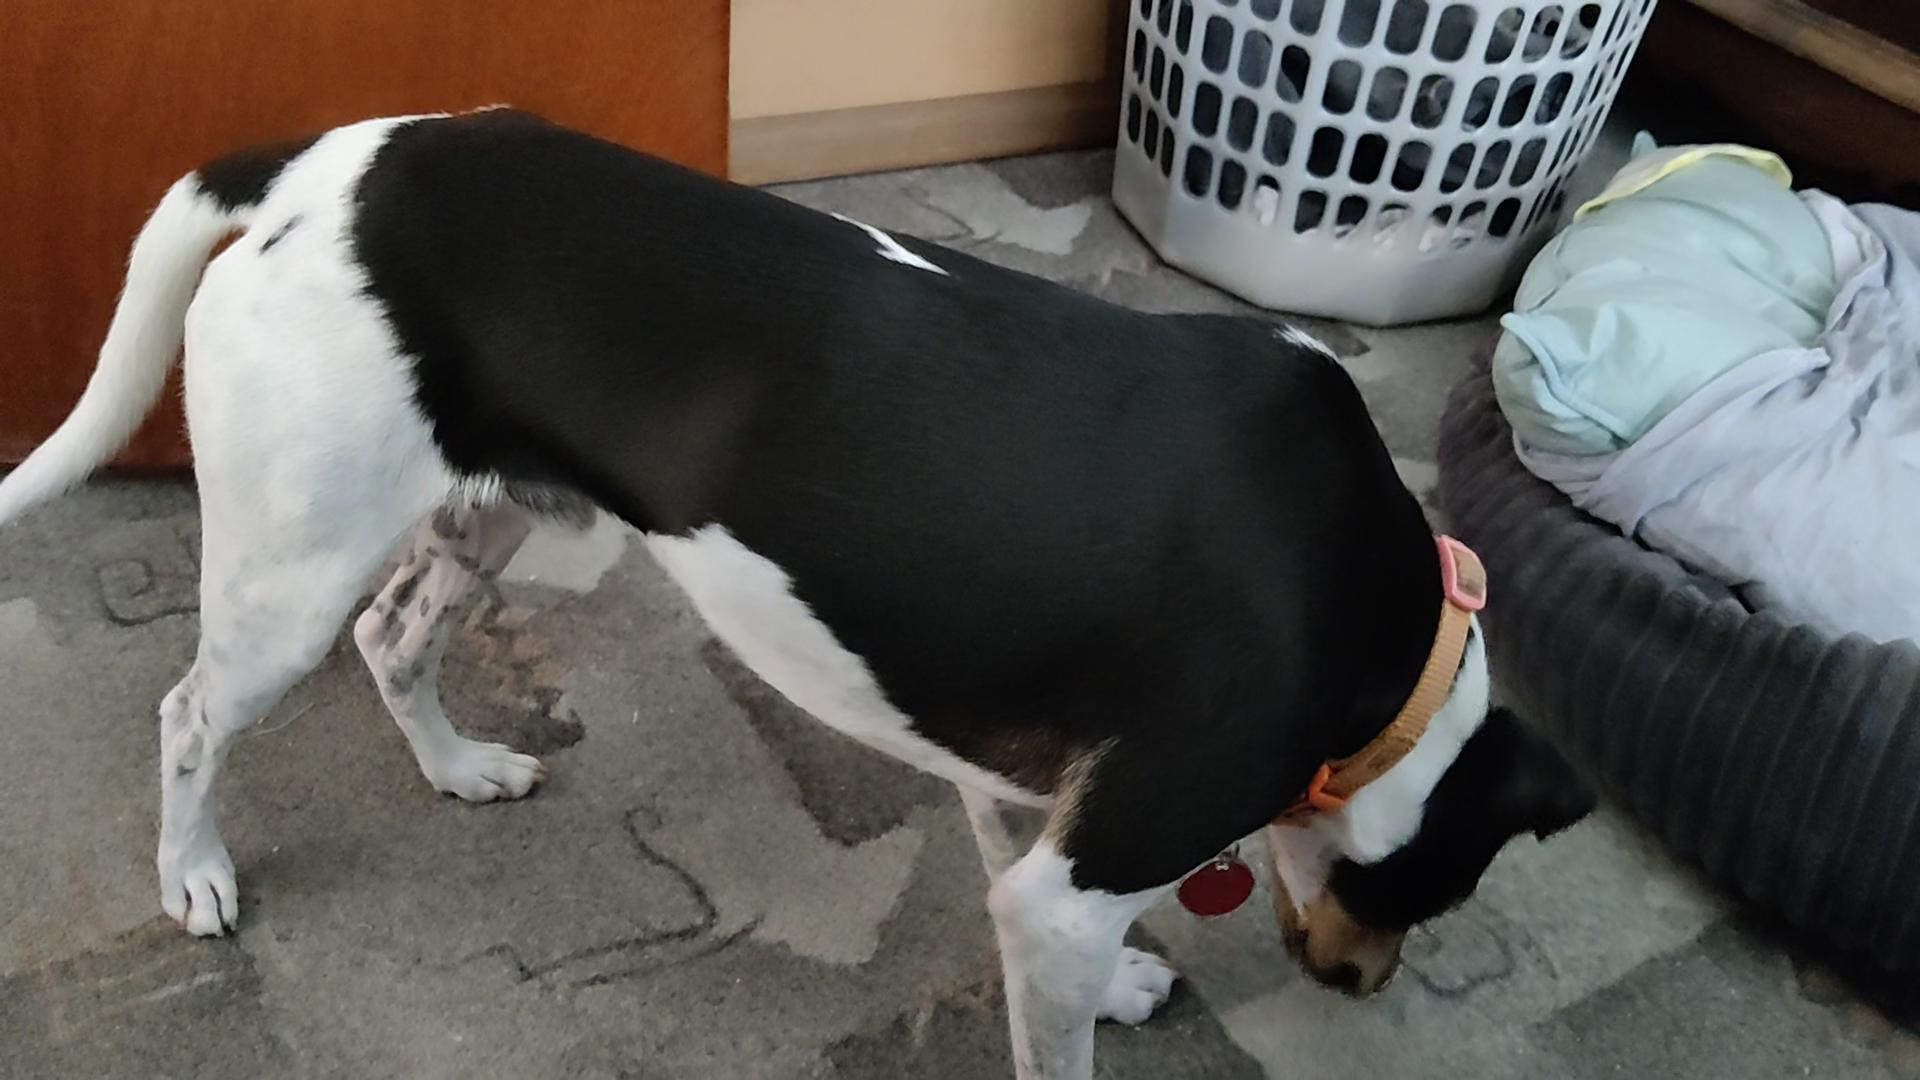Dog: (0, 99, 1601, 1079)
